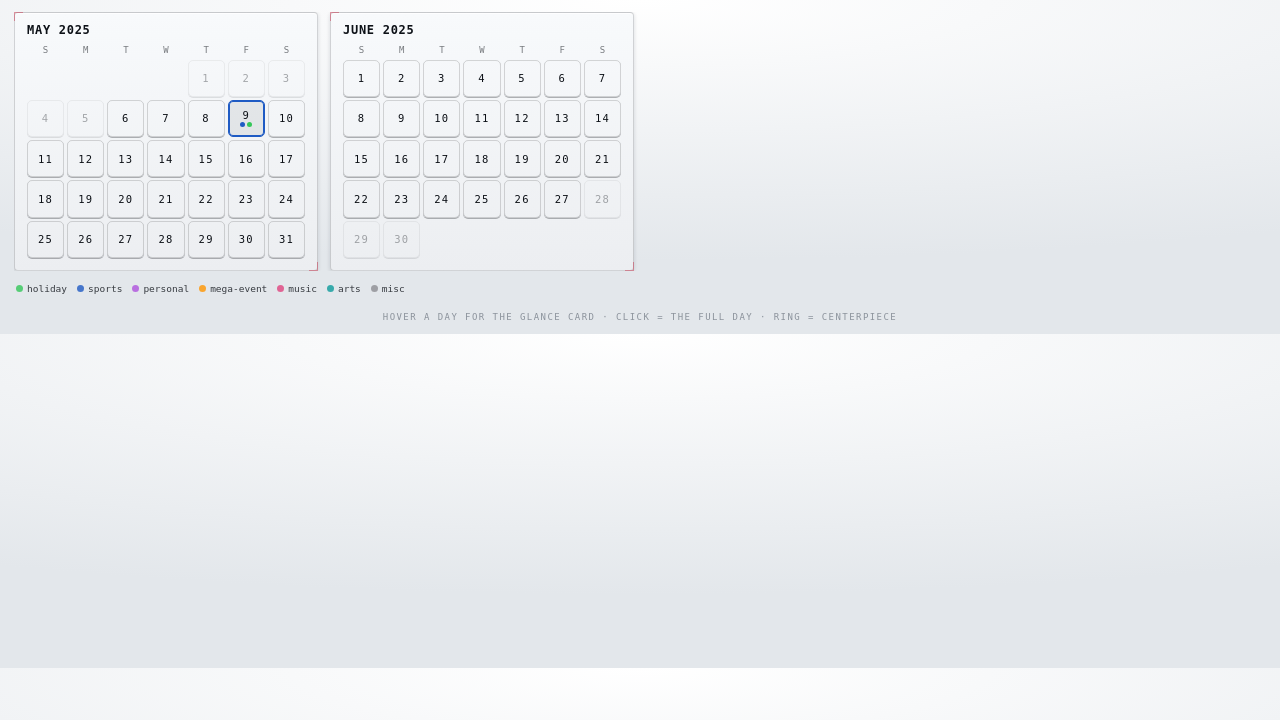
Test: Calendar › shows the glance card on hover
Hover over the button with class "has-items": x=246, y=119 [228,100,265,137]
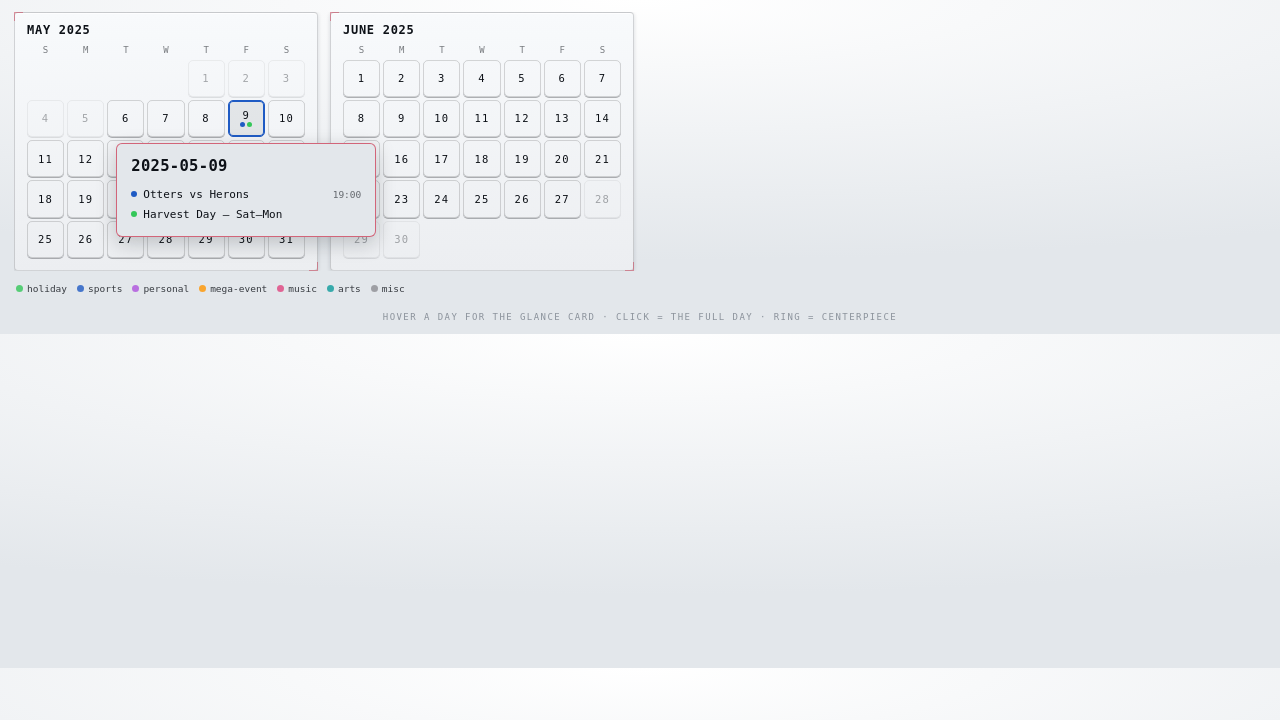
Result: the text "2025-05-09" is shown at [131,155,228,178]
Result: the text "Otters vs Herons" is shown at [143,187,249,203]
Move the pointer off the button with class "has-items", box [228,100,265,137]
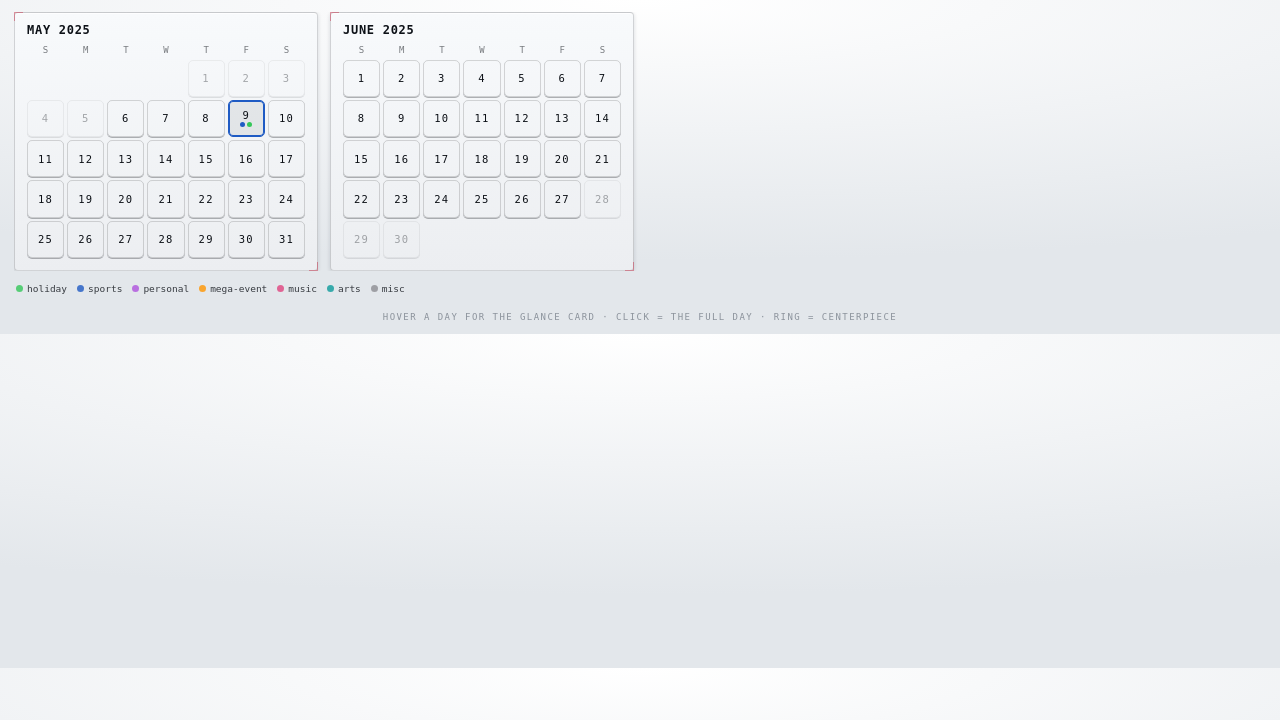
Result: the text "2025-05-09" is gone
